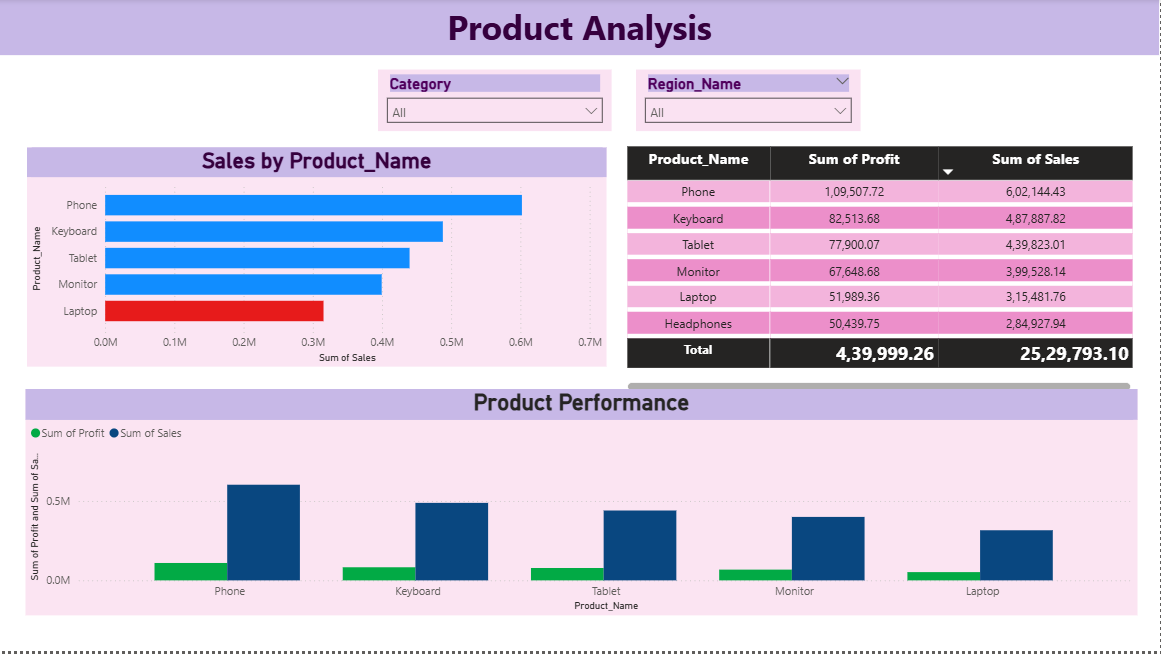

This screenshot's page, from the dashboard's own definition file:
{"tool":"powerbi","page":{"name":"Product Analysis","canvas":[1280,720],"ordinal":2},"visuals":[{"type":"pivotTable","fields":{"Rows":["Dim_Product.Product_Name"],"Values":["Sum(Fact_Sales.Profit)","Sum(Fact_Sales.Sales)"]},"box":[688,158,568,280],"z":0},{"type":"clusteredBarChart","title":"Sales by Product_Name","fields":{"Category":["Dim_Product.Product_Name"],"Y":["Sum(Fact_Sales.Sales)"]},"box":[30,164,640,242],"z":1000},{"type":"clusteredColumnChart","title":"Product Performance","fields":{"Category":["Dim_Product.Product_Name"],"Y":["Sum(Fact_Sales.Profit)","Sum(Fact_Sales.Sales)"]},"box":[28,430,1228,250],"z":2000},{"type":"slicer","fields":{"Values":["Dim_Product.Category"]},"box":[418,78,258,68],"z":3000},{"type":"slicer","fields":{"Values":["Dim_Region.Region_Name"]},"box":[702,78,248,68],"z":4000},{"type":"textbox","box":[0,0,1280,62],"z":5000}]}

Visuals, with their boxes in screenshot pixels (x1, y1, x2, y2), scaled from the page's 1280x720 canvas onto the 1161x655 screenshot:
pivotTable - Dim_Product.Product_Name x Sum(Fact_Sales.Profit): 624:144:1139:398
"Sales by Product_Name" clusteredBarChart: 27:149:608:369
"Product Performance" clusteredColumnChart: 25:391:1139:619
slicer - Dim_Product.Category: 379:71:613:133
slicer - Dim_Region.Region_Name: 637:71:862:133
textbox: 0:0:1160:56
